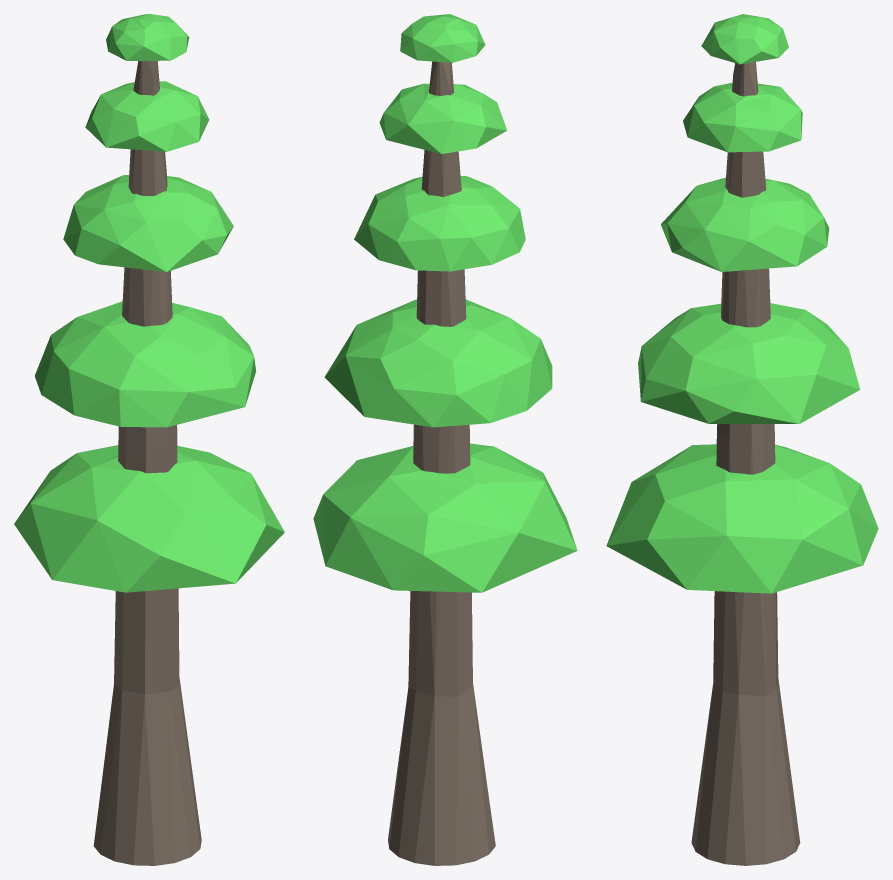
The model's file is tree4.gltf.
3 views of the same model, side by side, from view 1: azimuth 30°, elevation 25°; view 2: azimuth 150°, elevation 25°; view 3: azimuth 270°, elevation 25° (orthographic).
Visible parts, largest first — view 1: Sphere.028_wood_0; view 2: Sphere.028_wood_0; view 3: Sphere.028_wood_0.
Part boxes in pixels (box(x1,y1,x2,y2)): Sphere.028_wood_0: box(14, 14, 284, 865); Sphere.028_wood_0: box(313, 14, 577, 865); Sphere.028_wood_0: box(606, 14, 878, 865).
Bounding box in the file's own units: 0.5404 × 1.84 × 0.5519.
